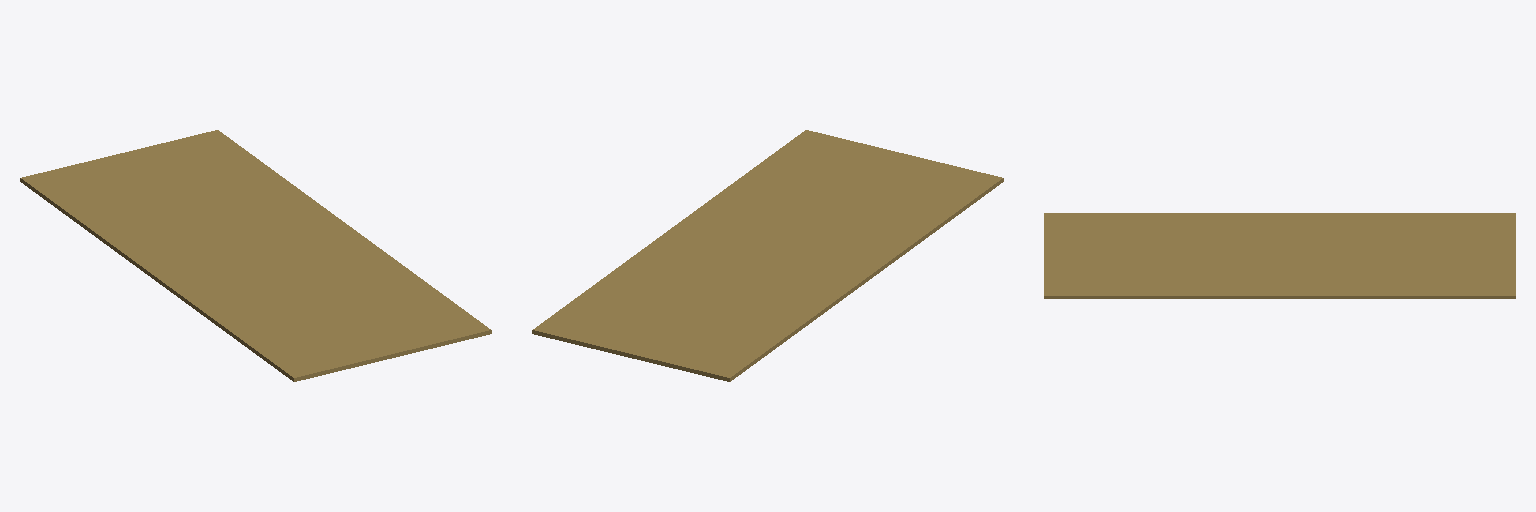
robot.urdf — rowFirst:
<robot name="rowFirst">
  <link name="rowFirst_base_link">
    <contact>
      <lateral_friction value="0.5"/>
      <rolling_friction value="0.0"/>
      <contact_cfm value="0.0"/>
      <contact_erp value="1.0"/>
    </contact>
    <inertial>
      <origin rpy="0 0 0" xyz="0 0 0"/>
      <mass value="0"/>
      <inertia ixx="0" ixy="0" ixz="0" iyy="0" iyz="0" izz="0"/>
    </inertial>
    <visual>
      <origin rpy="0 0 0" xyz="0 0 0"/>
      <geometry>
        <mesh filename="../meshes/row1.obj" scale="0.0009 0.0009 0.0009"/>
      </geometry>
      <material name="wood_material">
        <color rgba="0.65 0.56 0.36 1"/>
      </material>
    </visual>
    <collision>
      <origin rpy="0 0 0" xyz="0 0 0"/>
      <geometry>
        <mesh filename="../meshes/row1.obj" scale="0.0009 0.0009 0.0009"/>
      </geometry>
    </collision>
  </link>
</robot>

--- Facts derived from the render (not from the file) ---
Views: 3 orthographic renders of the robot side by side, from view 1: azimuth 30°, elevation 25°; view 2: azimuth 150°, elevation 25°; view 3: azimuth 270°, elevation 25°.
Model rowFirst with 1 links and 0 joints (none), rooted at rowFirst_base_link, posed every joint at zero.
Visible links, largest first — view 1: rowFirst_base_link; view 2: rowFirst_base_link; view 3: rowFirst_base_link.
Link boxes in pixels (x1,y1,x2,y2): rowFirst_base_link: [20, 130, 491, 381]; rowFirst_base_link: [532, 130, 1003, 381]; rowFirst_base_link: [1044, 213, 1515, 298].
Bounding box of the posed robot: 0.45 × 1.08 × 0.009 m (x, y, z).
1 mesh visuals loaded from 1 distinct referenced files (1 OBJ).